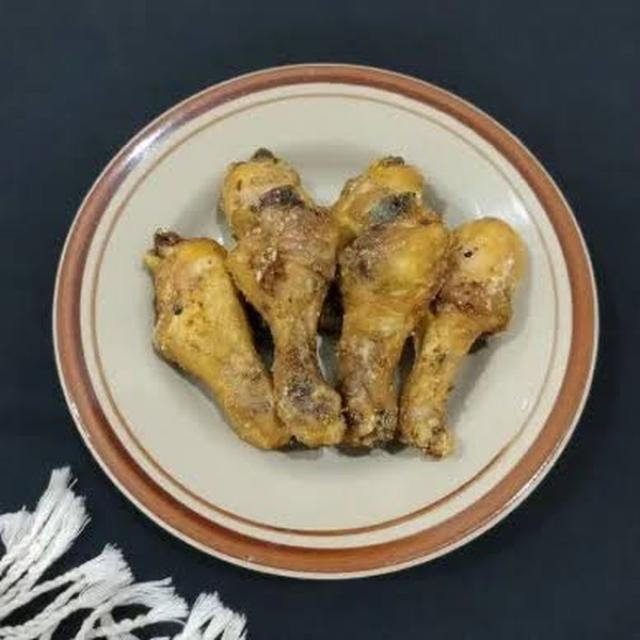CHICKEN FRY: (144, 155, 527, 462)
